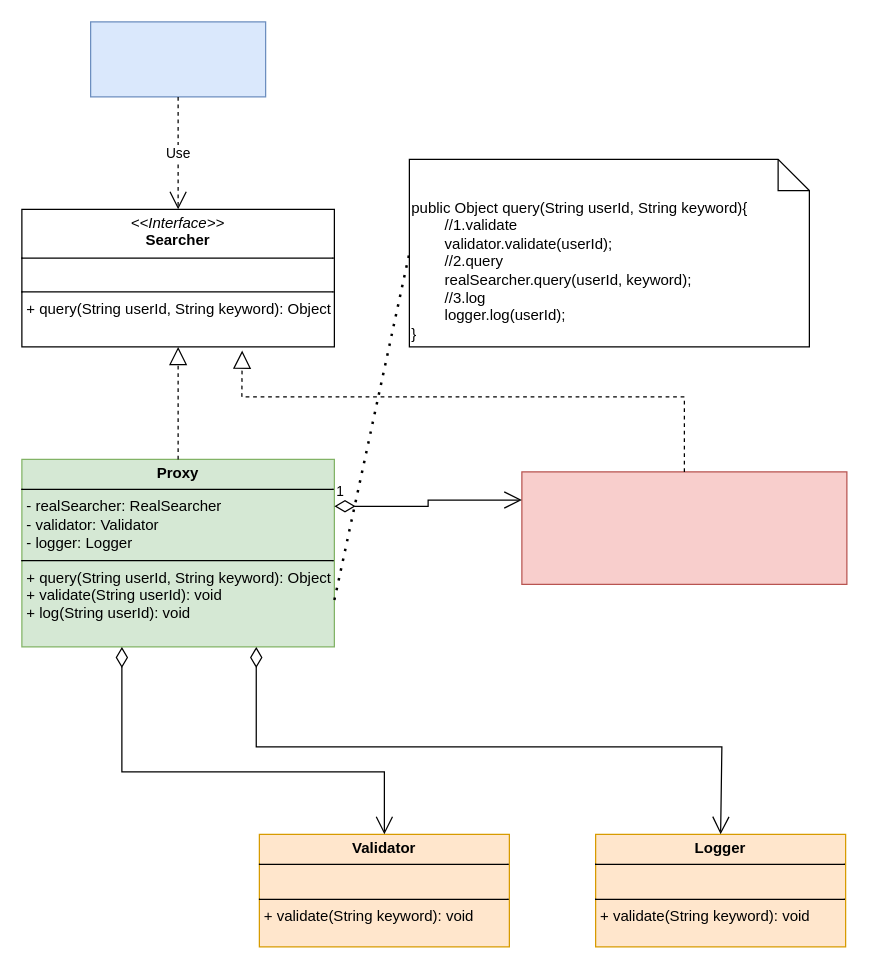
Image size: 869x969. Some labels were removed from this diagram. The centre of each missing label's shape, as x and y in pixels:
"Client" belongs at [177,59].
"RealSearcher + query(String userId, String keyword): Object" belongs at [684,527].
